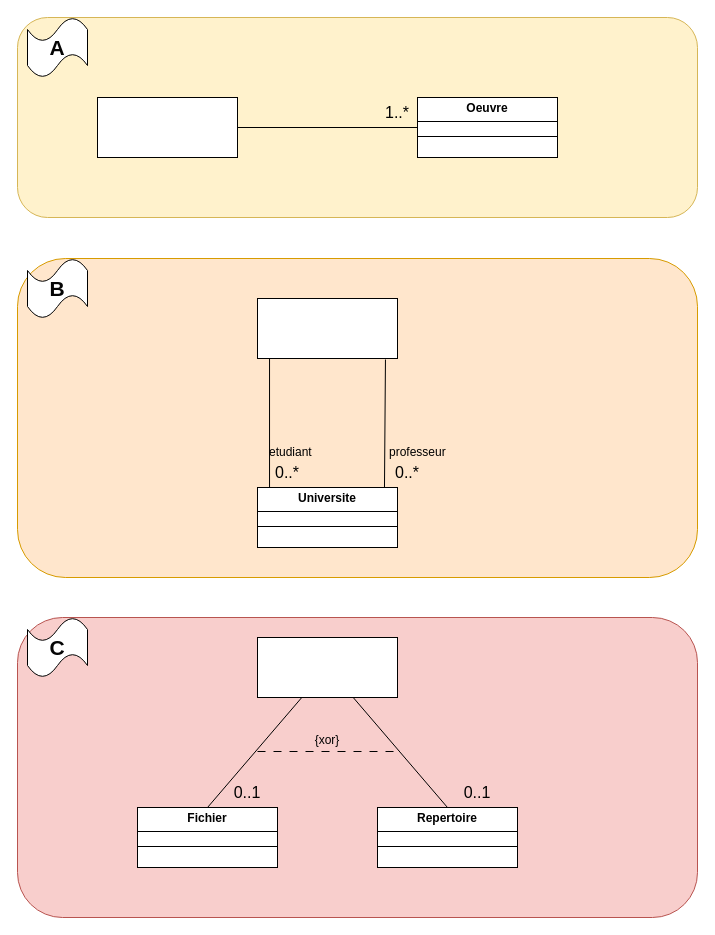
Some shapes in this 715 by 935 pixel diagram are drawn without their labels. The shapes that lost their labels are listed below. From the top down, each one's centre as x and y in pixels, then its label:
At point (167, 127): "Ecrivain".
At point (327, 328): "Personne".
At point (327, 667): "Raccourci".
